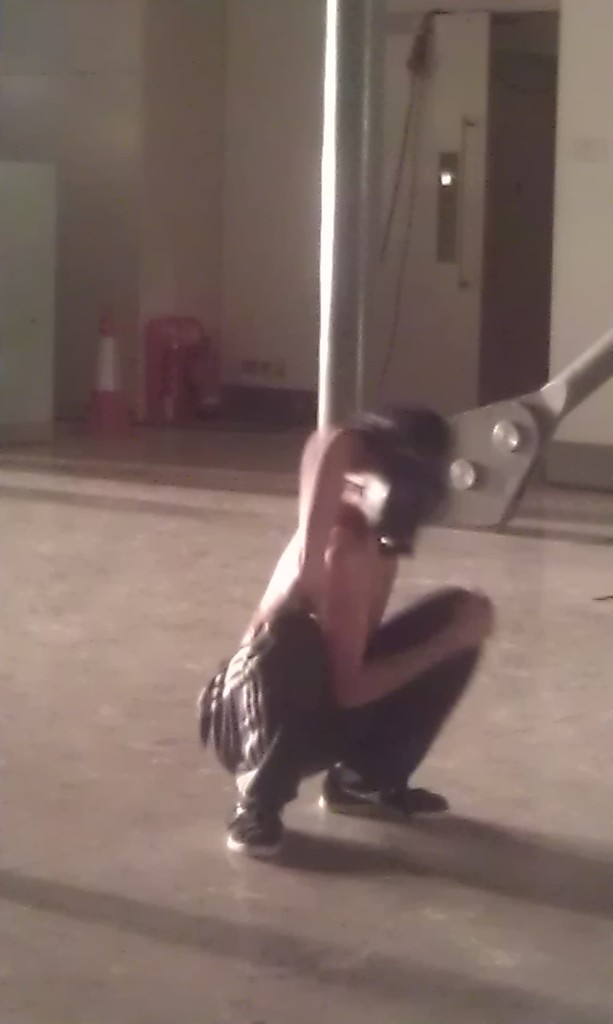Person: (197, 408, 496, 857)
